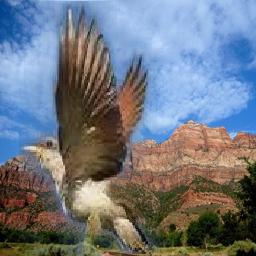Cuckoo: (20, 2, 233, 255)
